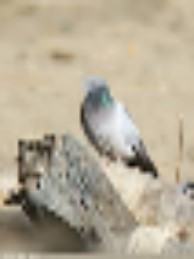pigeon: (76, 73, 160, 180)
